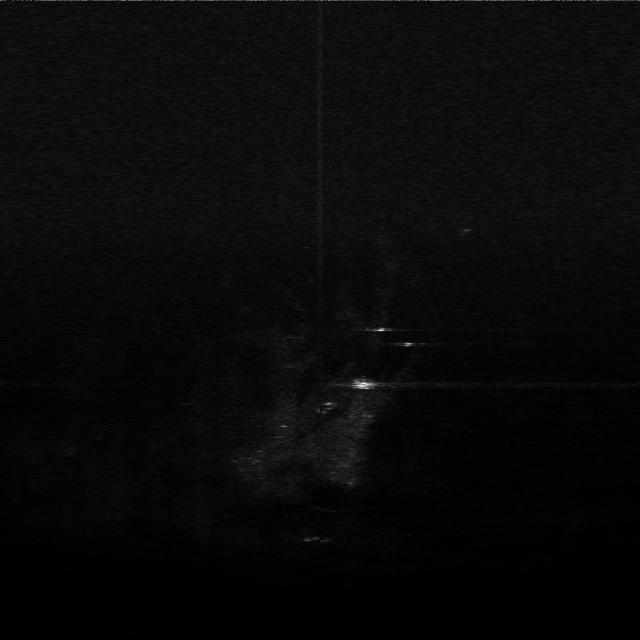rov: (350, 376, 380, 392)
